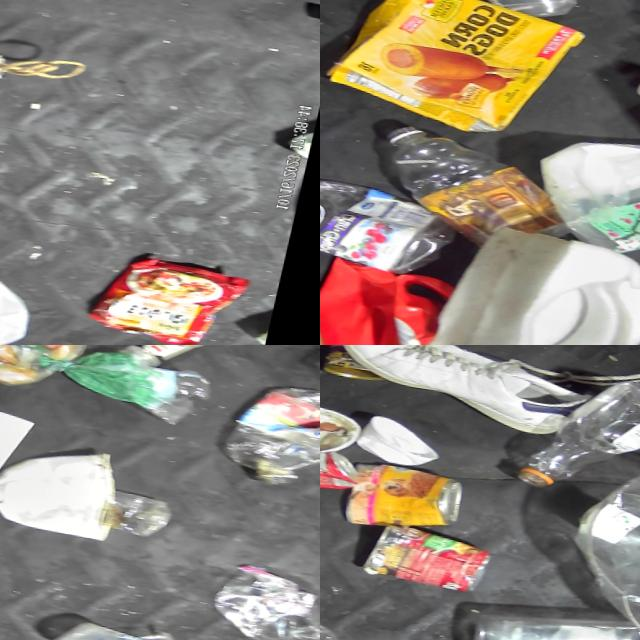can: (343, 459, 476, 535), (369, 524, 502, 598), (320, 439, 373, 494)
milk_jug: (0, 262, 46, 345)
non_white_jug: (320, 254, 501, 345)
plastic_bottle: (364, 115, 585, 246), (520, 368, 640, 505), (320, 172, 467, 277), (222, 384, 320, 501), (454, 597, 640, 640)
